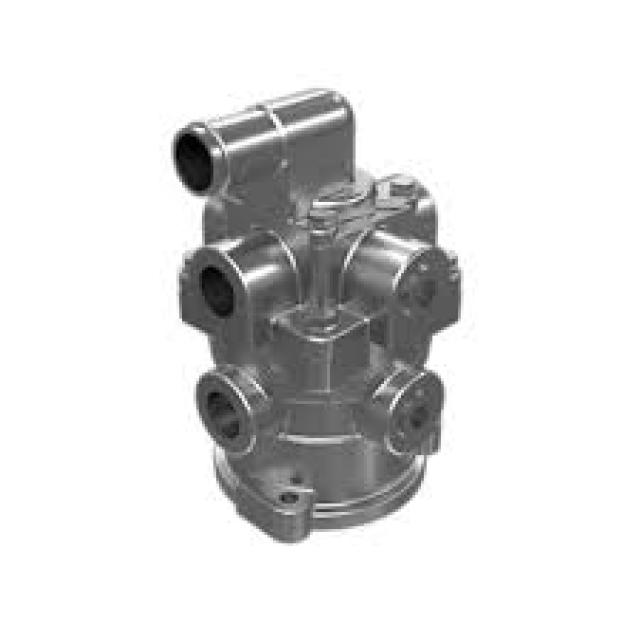video_frame: (167, 82, 463, 547)
